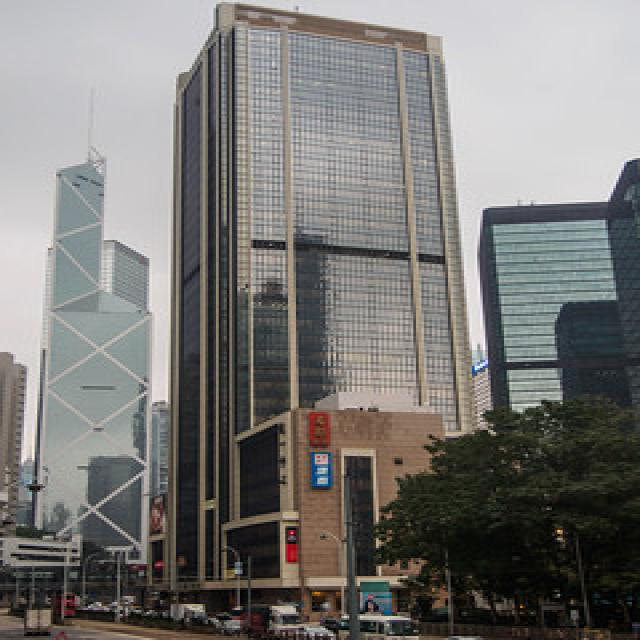building: (164, 2, 479, 588), (21, 152, 155, 576)
